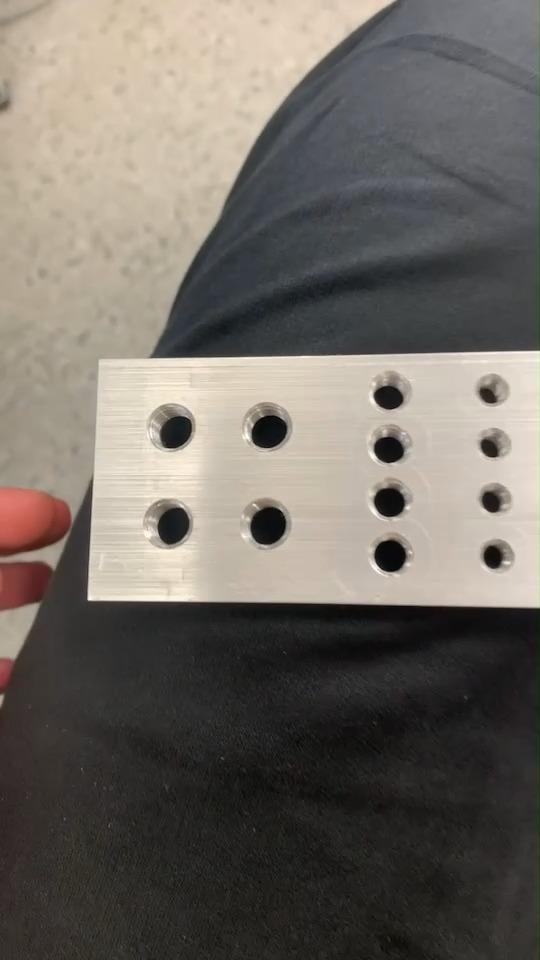hole: (239, 493, 294, 550), (239, 398, 295, 453), (144, 498, 194, 548), (147, 402, 195, 452), (369, 532, 416, 578), (366, 476, 414, 518), (366, 370, 410, 412), (365, 426, 411, 466), (478, 538, 519, 576), (474, 482, 512, 519), (472, 426, 513, 460), (473, 373, 511, 408)
